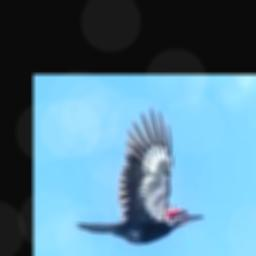Woodpecker: (74, 107, 204, 244)
